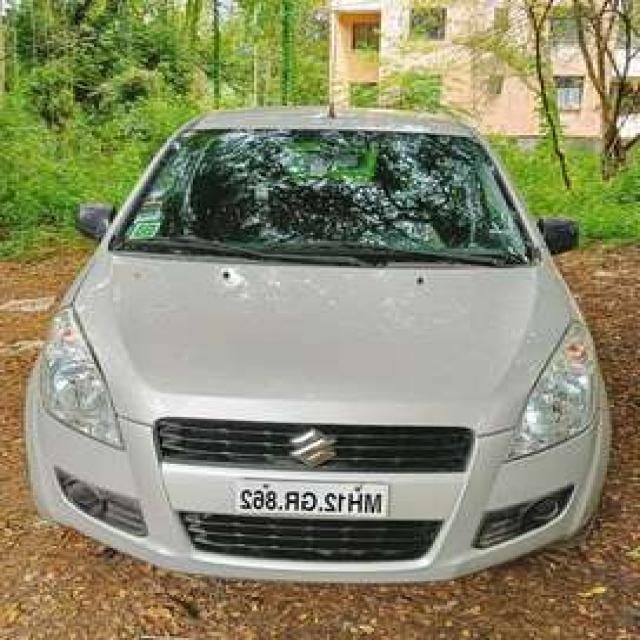license_plate: (226, 474, 400, 526)
